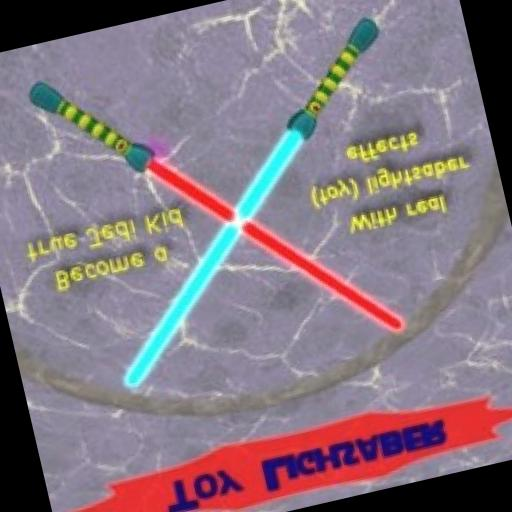lightsaber: (56, 14, 452, 392)
sith saber: (24, 14, 406, 404)
